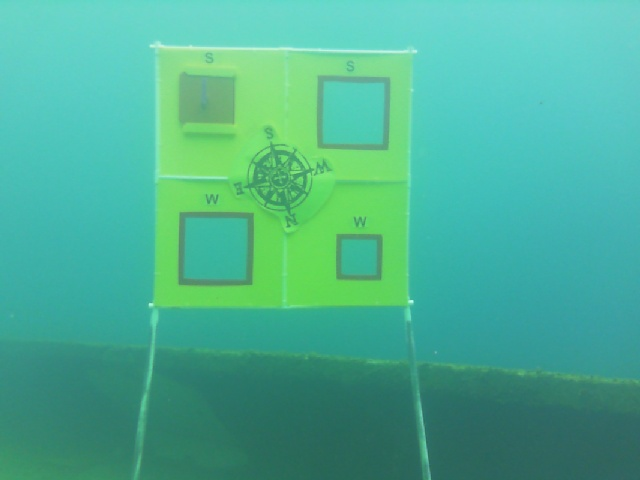torpedo_cover: (175, 74, 241, 131)
torpedo_hole: (305, 70, 401, 154), (171, 207, 256, 288), (174, 68, 251, 130), (337, 232, 386, 286)
torpedo_target: (142, 42, 427, 314)
